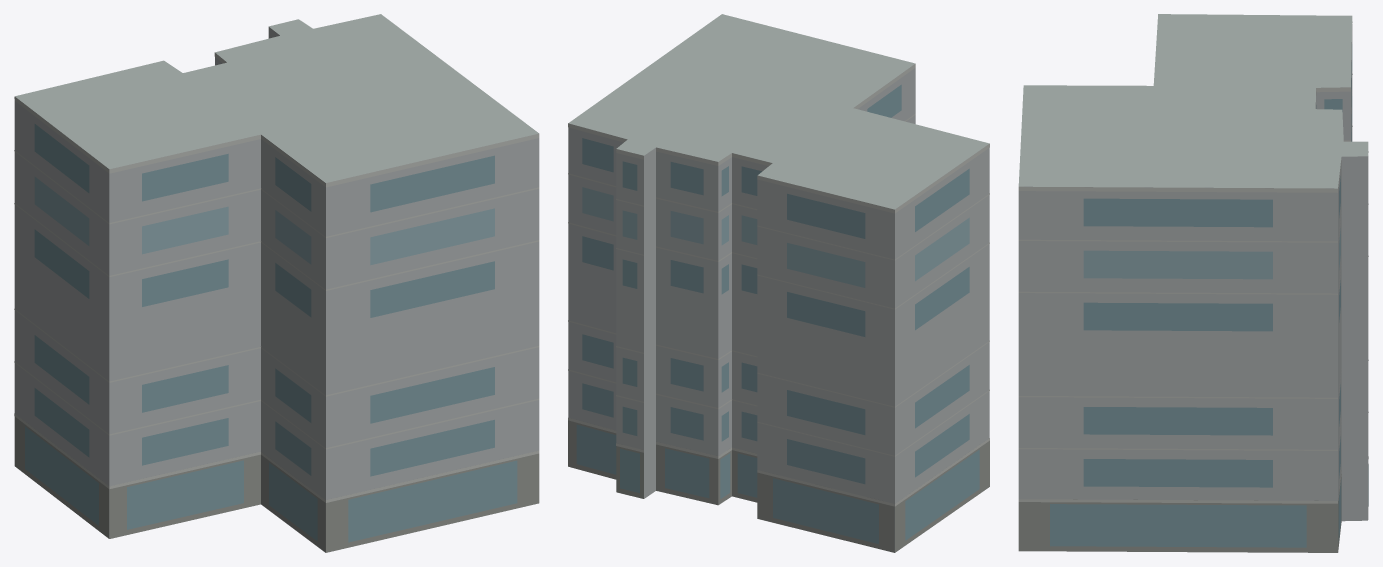
Rendered from survey-upis-32927634.glb.
3 views of the same model, side by side, from view 1: azimuth 30°, elevation 25°; view 2: azimuth 150°, elevation 25°; view 3: azimuth 270°, elevation 25° (orthographic). The views are drawn at different scales.
Parts seen in each view (by area): view 1: survey-upis-32927634.tmp; view 2: survey-upis-32927634.tmp; view 3: survey-upis-32927634.tmp.
Boxes of the visible parts, <box> form: survey-upis-32927634.tmp: <box>14,14,539,552</box>; survey-upis-32927634.tmp: <box>568,14,989,552</box>; survey-upis-32927634.tmp: <box>1018,14,1368,552</box>.
Bounding box in the file's own units: 21.08 × 20.5 × 17.85.
